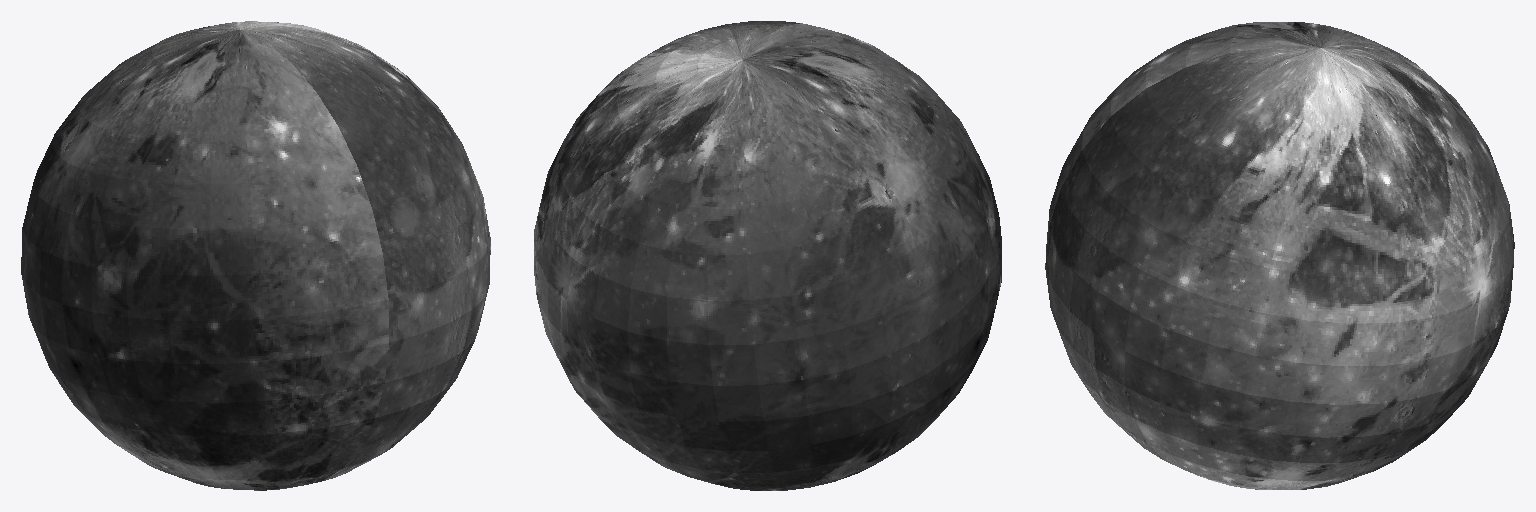
The picture shows the model from 3 angles: view 1: azimuth 30°, elevation 25°; view 2: azimuth 150°, elevation 25°; view 3: azimuth 270°, elevation 25°; orthographic projection.
Visible parts, largest first — view 1: Ganymede_Mesh.002; view 2: Ganymede_Mesh.002; view 3: Ganymede_Mesh.002.
Boxes of the visible parts, box(x1,y1,x2,y2) form: Ganymede_Mesh.002: box(21, 21, 490, 490); Ganymede_Mesh.002: box(534, 21, 1001, 490); Ganymede_Mesh.002: box(1045, 22, 1514, 489).
Size of the model in its own units: 10.25 by 10.29 by 10.25.
Materials: 1 (1 with a texture image).